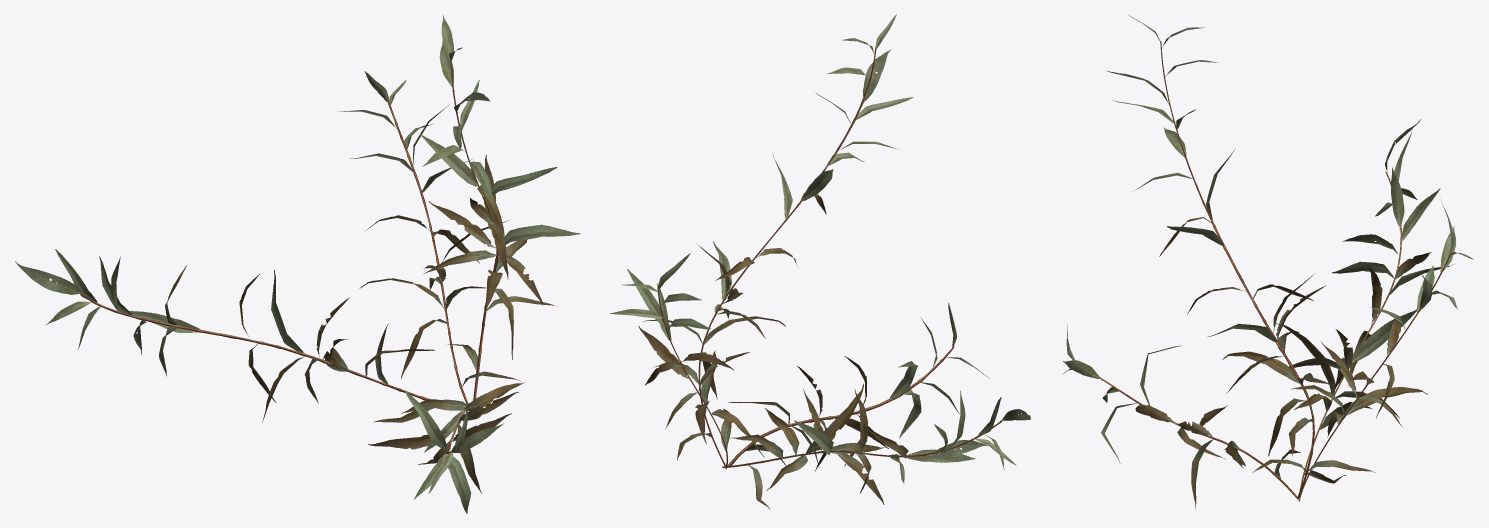
Rendered from shrub_02_d_LOD1.glb.
3 renders of one model, left to right at view 1: azimuth 30°, elevation 25°; view 2: azimuth 150°, elevation 25°; view 3: azimuth 270°, elevation 25°, orthographic. The views are drawn at different scales.
Visible parts, largest first — view 1: shrub_02_d_LOD1__lod0; view 2: shrub_02_d_LOD1__lod0; view 3: shrub_02_d_LOD1__lod0.
Boxes of the visible parts, bbox=[...] form: shrub_02_d_LOD1__lod0: bbox=[15, 15, 580, 513]; shrub_02_d_LOD1__lod0: bbox=[610, 14, 1030, 510]; shrub_02_d_LOD1__lod0: bbox=[1062, 14, 1473, 509].
Size of what is drawn, in the model's own units: 1.04 by 1.01 by 0.8005.
Materials: 1 (1 with a texture image).
